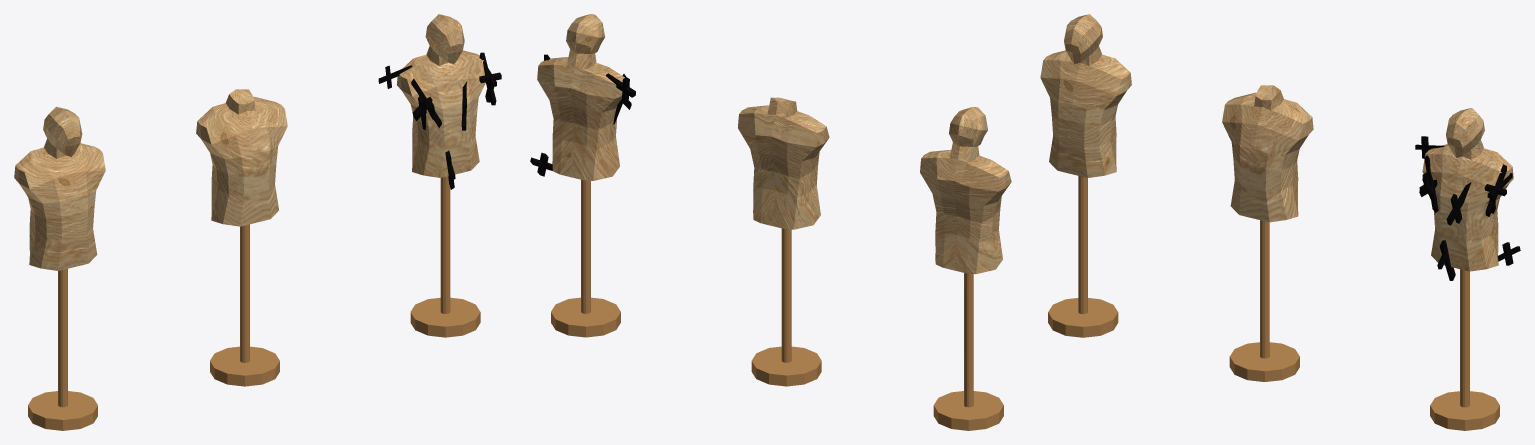
The model's file is manequins_finalizados 1.fbx.
The picture shows the model from 3 angles, left to right: view 1: azimuth 30°, elevation 25°; view 2: azimuth 150°, elevation 25°; view 3: azimuth 330°, elevation 25°; orthographic projection.
Parts seen in each view (by area): view 1: manequim_cruzes, manequim_full, manequim_semcabeca; view 2: manequim_cruzes, manequim_full, manequim_semcabeca; view 3: manequim_cruzes, manequim_full, manequim_semcabeca.
Part boxes in pixels (x1,y1,x2,y2): manequim_cruzes: (378,14,501,337); manequim_full: (14,106,105,430); manequim_semcabeca: (196,89,287,386); manequim_cruzes: (530,14,635,337); manequim_full: (920,107,1011,430); manequim_semcabeca: (738,97,829,386); manequim_cruzes: (1415,108,1520,430); manequim_full: (1040,14,1131,337); manequim_semcabeca: (1222,85,1313,381).
Size of the model in its own units: 2363 by 1468 by 310.
Materials: 3 (3 with a texture image).
